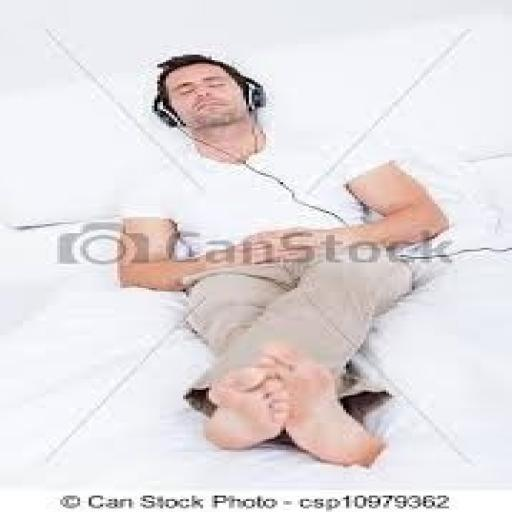listening_to_music: (112, 51, 454, 470)
